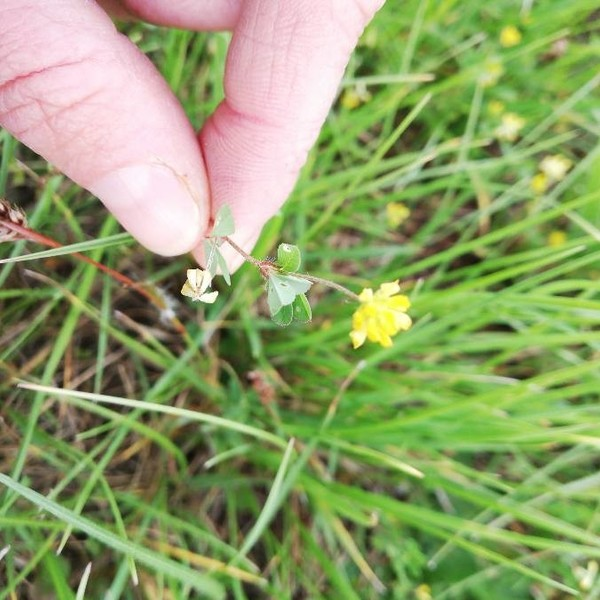obstacle: (226, 378, 537, 537), (183, 213, 438, 353)
